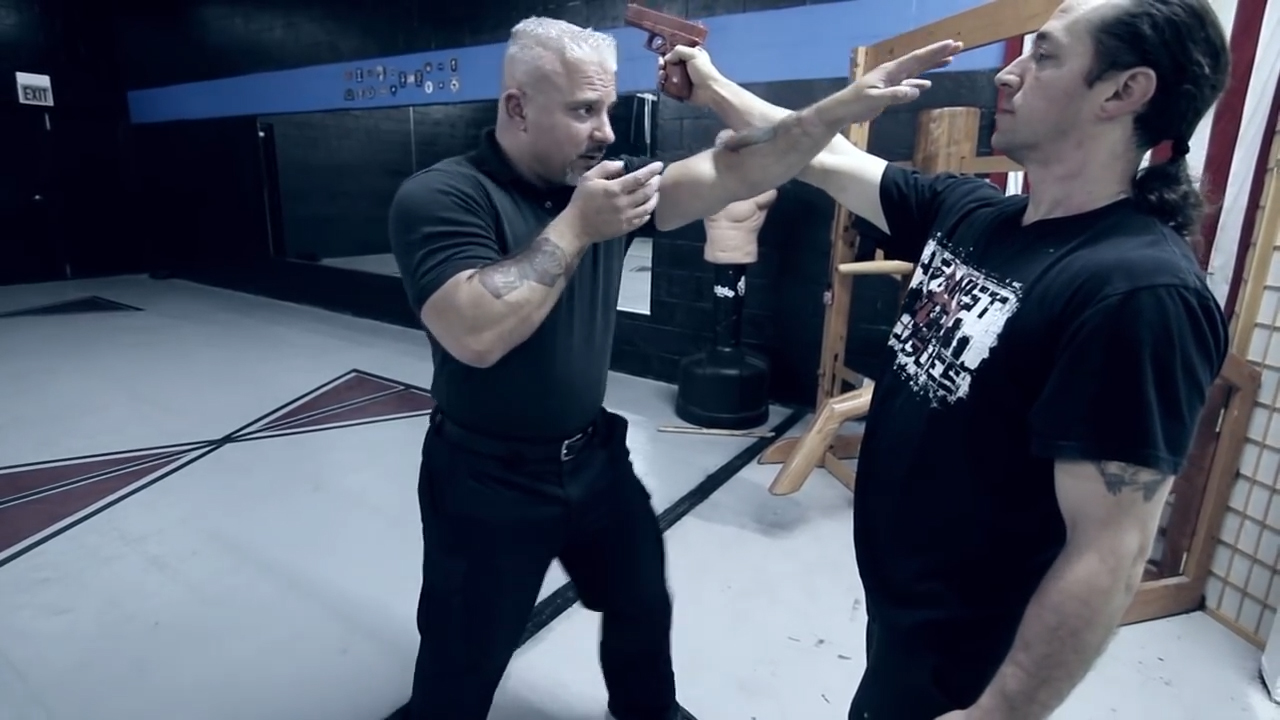pistol: (623, 1, 711, 104)
